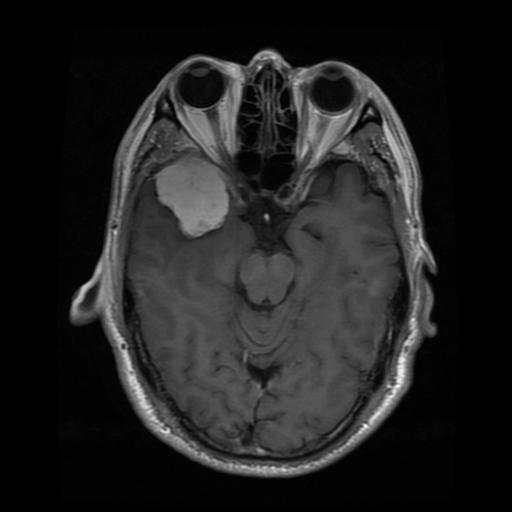Menigiomia_tumour: (154, 153, 228, 236)
